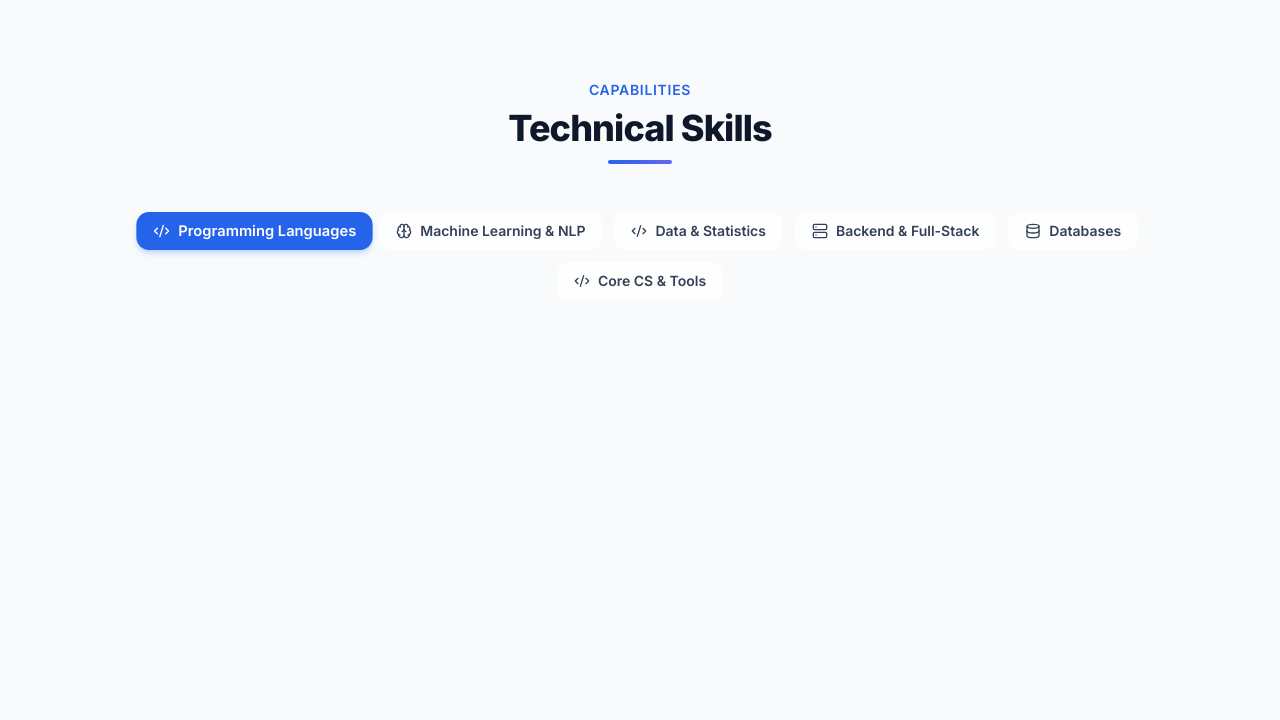
Frontend Component Tests › switches skills categories when clicking skill tabs
Note: Click Machine Learning & NLP tab
Click the button "Machine Learning & NLP".
click(491, 231)  # box [379,212,602,250]
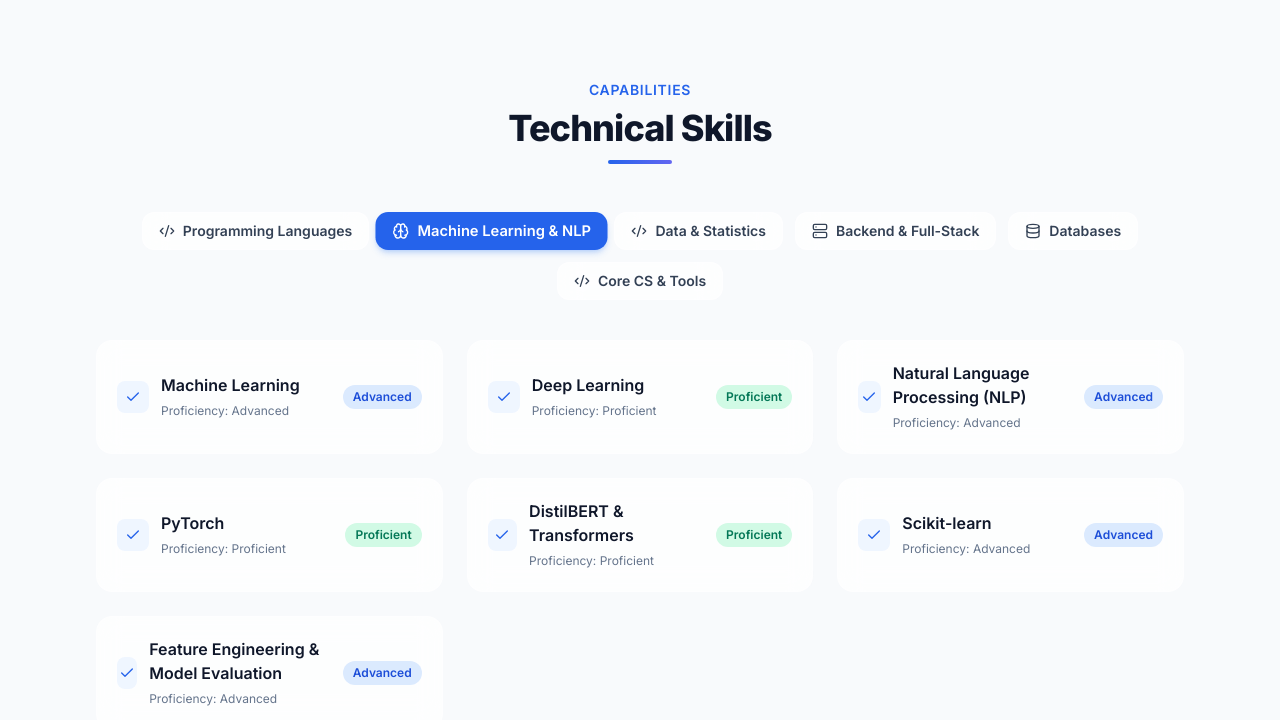
Check: the heading "DistilBERT & Transformers" is shown, box [529,501,634,545]
Check: the heading "PyTorch" is shown, box [161,513,224,533]
